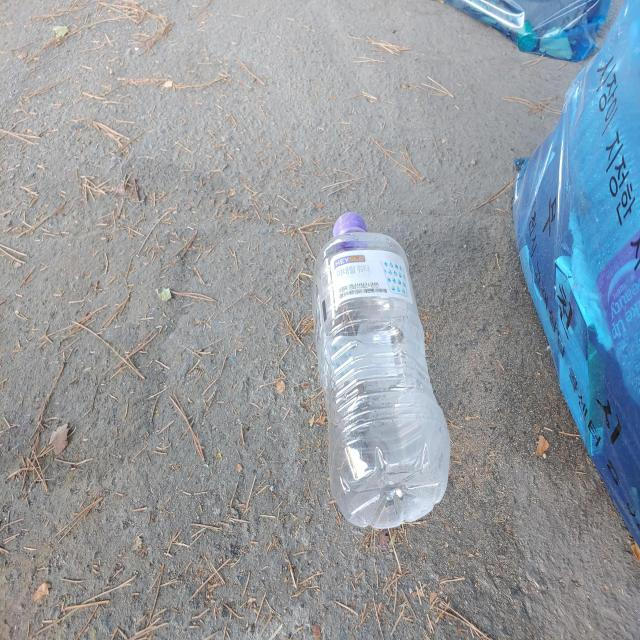plastic: (313, 212, 451, 529)
